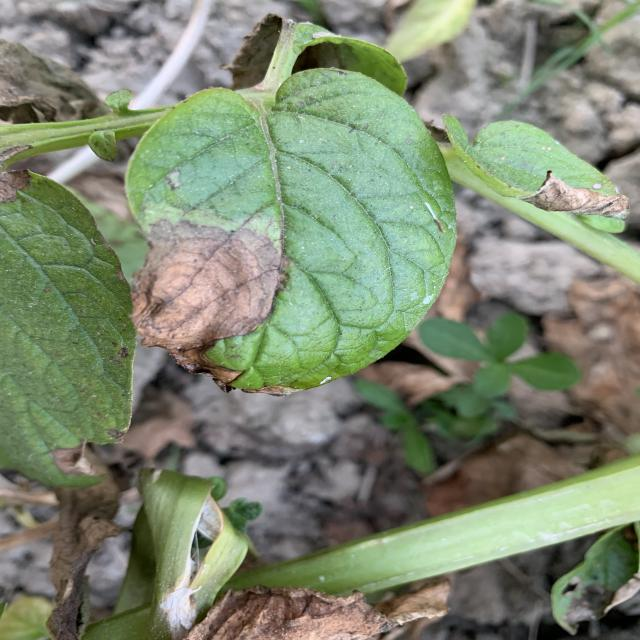lateblight: (132, 220, 283, 385), (520, 171, 630, 218)
